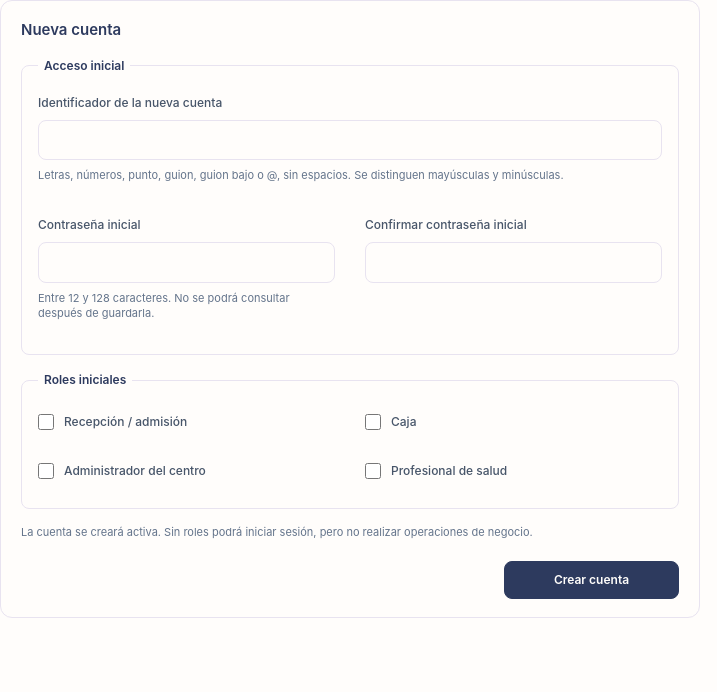
Test: Gestión de cuentas › muestra duplicados y no repite automáticamente el alta
In the field labelled "Identificador de la nueva cuenta": (350, 140) [38,120,662,160], type "nueva.cuenta"
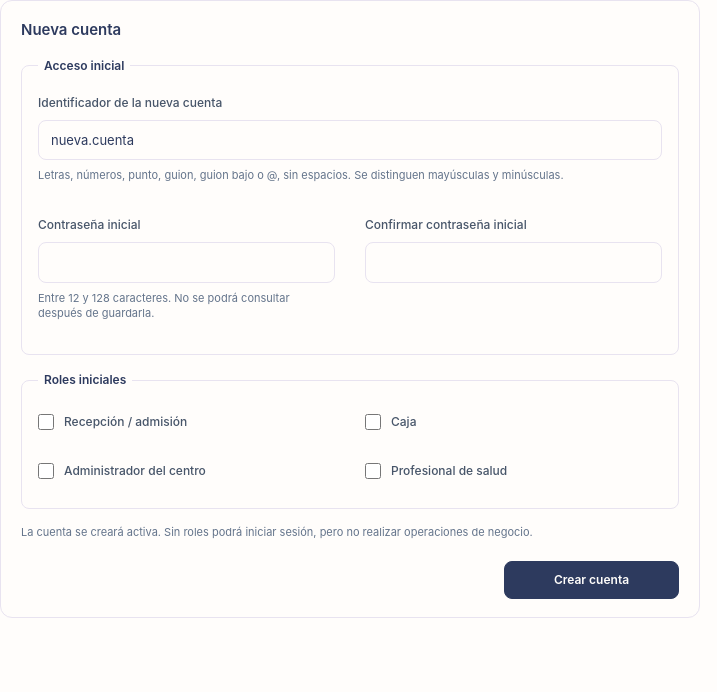
In the password field labelled "Contraseña inicial": (186, 262) [38,242,335,282], type "contraseña-de-prueba"
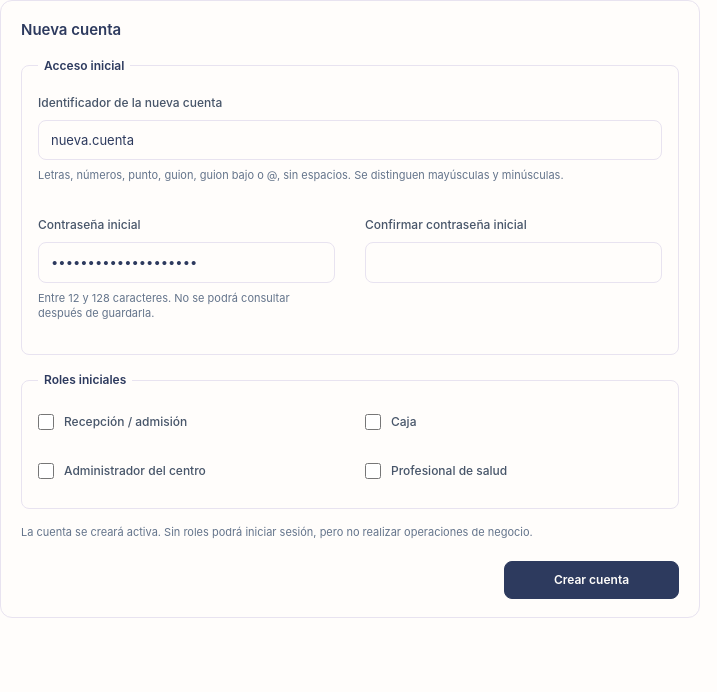
In the password field labelled "Confirmar contraseña inicial": (514, 262) [365,242,662,282], type "contraseña-de-prueba"
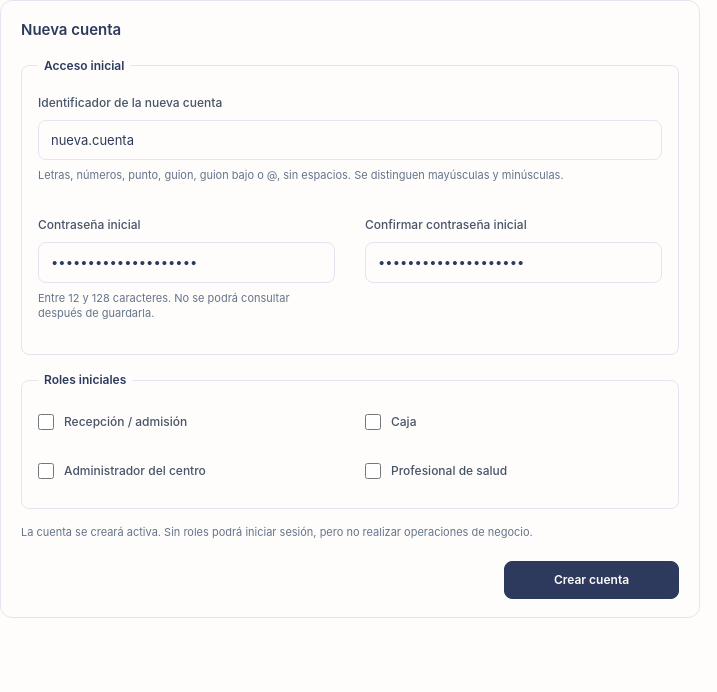
Click the button "Crear cuenta": click(592, 580) [504,560,679,598]
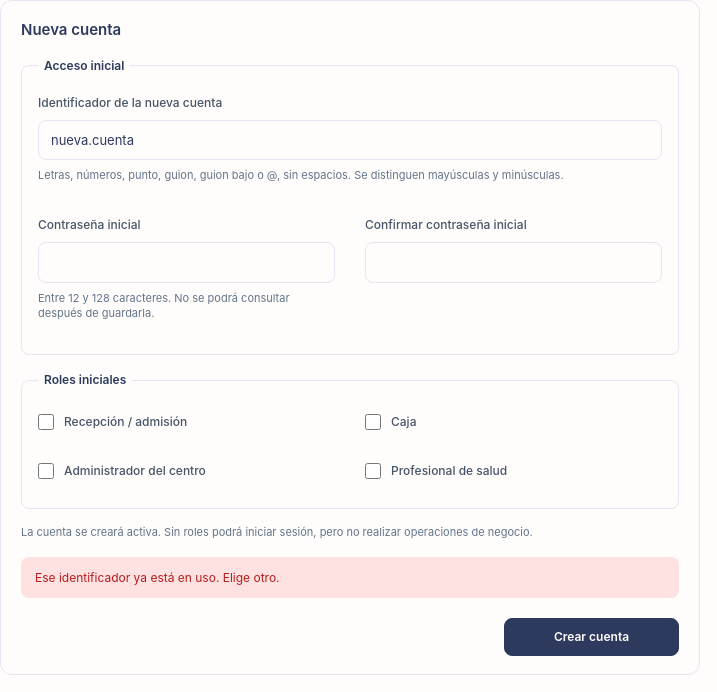
Check: the message shows "ya está en uso", box [35,570,280,584]
Check: the password field labelled "Contraseña inicial" is empty, box [38,242,335,282]
